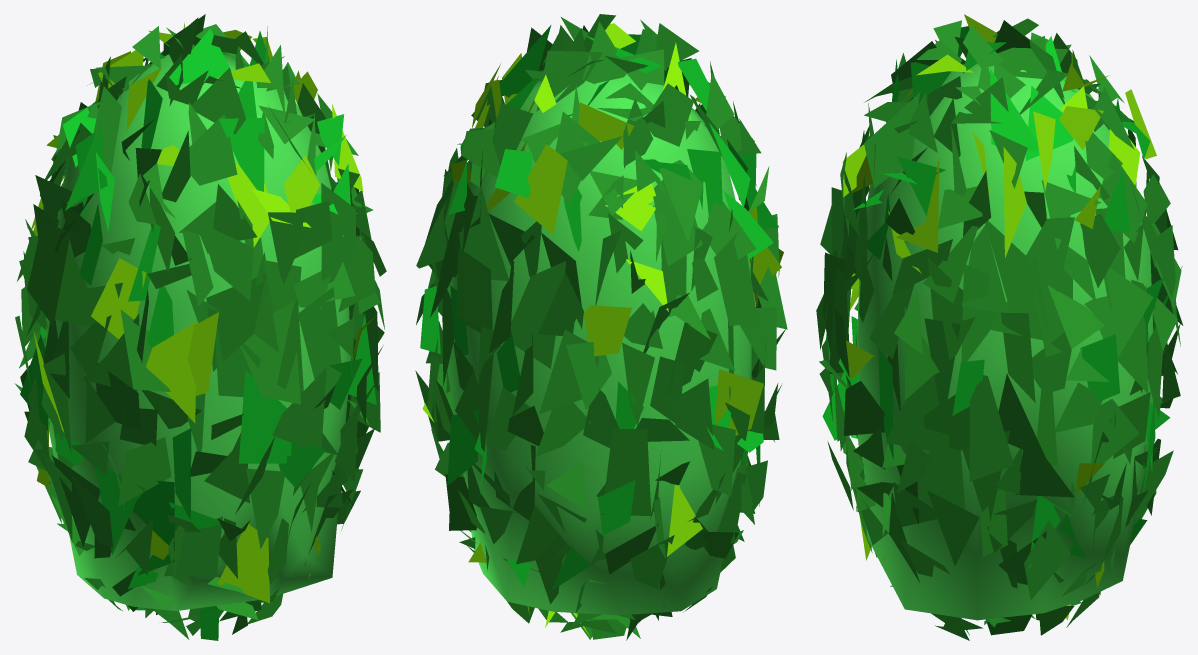
The model's file is Tall_Bush.fbx.
The picture shows the model from 3 angles, left to right: view 1: azimuth 30°, elevation 25°; view 2: azimuth 150°, elevation 25°; view 3: azimuth 270°, elevation 25°; orthographic projection.
Visible parts, largest first — view 1: Cube.002; view 2: Cube.002; view 3: Cube.002.
Boxes of the visible parts, x1,y1,x2,y2 form: Cube.002: [14, 14, 386, 640]; Cube.002: [415, 14, 787, 640]; Cube.002: [816, 14, 1183, 640].
Bounding box in the file's own units: 191 × 351 × 190.
